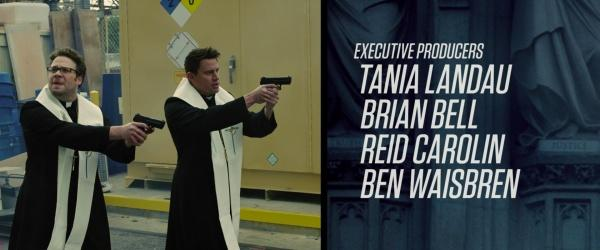Gun: (132, 113, 166, 133), (259, 75, 293, 91)
